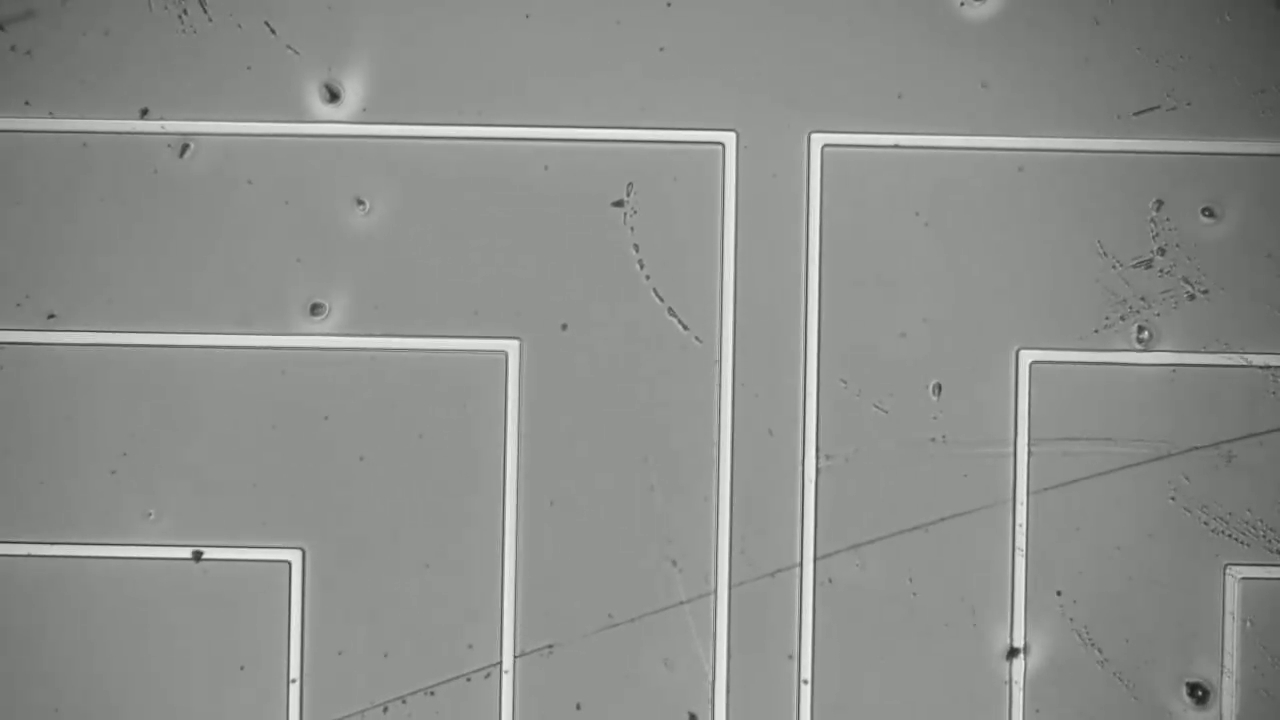scratch: (351, 424, 1280, 711), (615, 186, 705, 345)
stains_enbedded: (999, 631, 1031, 669), (181, 538, 206, 570)
